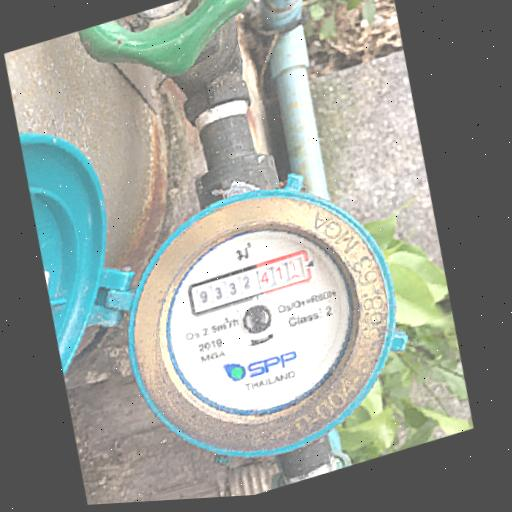1: (271, 263, 290, 286), (287, 259, 304, 281)
2: (239, 274, 257, 296)
3: (226, 277, 243, 299), (211, 283, 228, 304)
4: (257, 268, 275, 291)
9: (196, 287, 213, 309)
border_water_meter_number: (184, 248, 316, 318)
